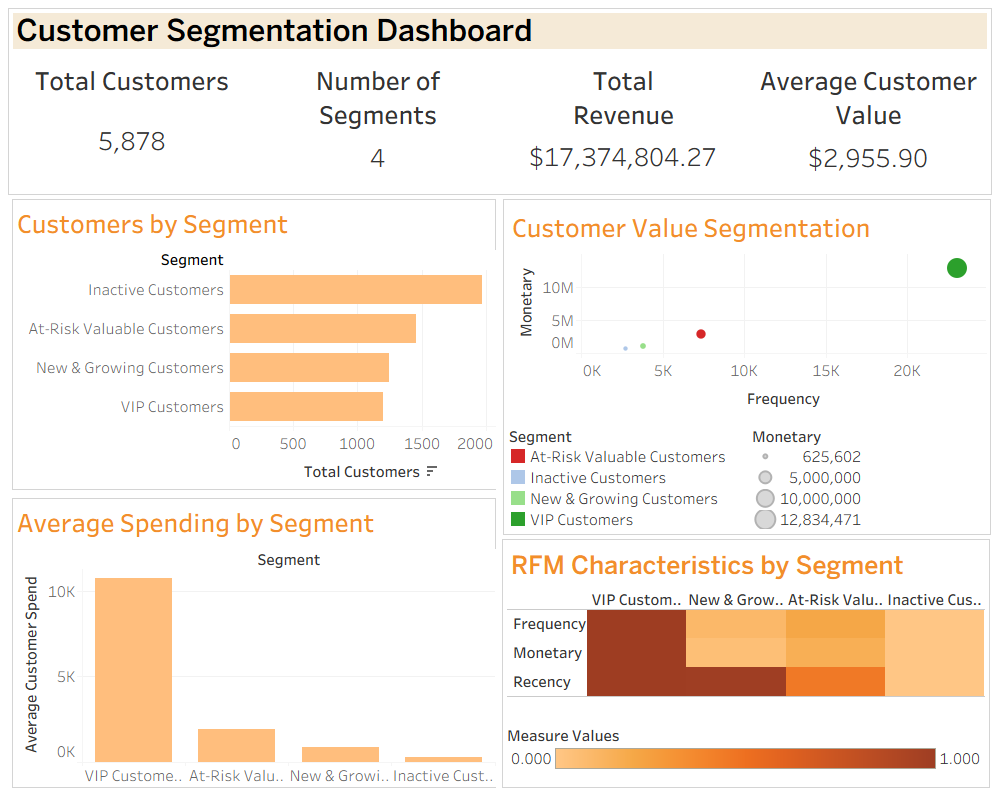

The page's visual inventory and layout, read from the dashboard file:
{"tool":"tableau","page":{"name":"Dashboard","canvas":[1000,800],"ordinal":0},"visuals":[{"type":"title","box":[9,9,982,44]},{"type":"worksheet","title":"Total Customers","mark":"Automatic","box":[9,53,246,125]},{"type":"worksheet","title":"Number of Segments","mark":"Automatic","box":[255,53,246,125]},{"type":"worksheet","title":"Total Revenue","mark":"Automatic","box":[501,53,245,125]},{"type":"worksheet","title":"Average Customer Value","mark":"Automatic","box":[746,53,245,125]},{"type":"worksheet","title":"Segment Size Chart","mark":"Automatic","rows":["Segment"],"cols":["Calculation_0306237543837696"],"box":[8,195,492,298.5]},{"type":"worksheet","title":"Customer Value Scatter Plot","mark":"Circle","rows":["Monetary"],"cols":["Frequency"],"box":[504,200,486,220]},{"type":"legend","title":"Customer Value Scatter Plot","param":"[federated.1qayw2i13rmw9w1dwfcid13506ii].[none:Segment:nk]","box":[504,420,243,114]},{"type":"legend","title":"Customer Value Scatter Plot","param":"[federated.1qayw2i13rmw9w1dwfcid13506ii].[sum:Monetary:qk]","box":[747,420,243,114]},{"type":"worksheet","title":"Segment Value Chart","mark":"Automatic","rows":["Calculation_0306237545115650"],"cols":["Segment"],"box":[8,493.5,492,298.5]},{"type":"worksheet","title":"RFM Comparison Heatmap","mark":"Square","cols":["Segment"],"box":[503,540,486,177]},{"type":"legend","title":"RFM Comparison Heatmap","param":"[federated.0ugg9k71cs9q5a1cqvt8u18612lf].[Multiple Values]","box":[503,717,486,70]}]}

Visuals, with their boxes in screenshot pixels (x1, y1, x2, y2), scaled from the page's 1000x800 canvas onto the 1000x800 screenshot:
title: left=9, top=9, right=991, bottom=53
"Total Customers" worksheet: left=9, top=53, right=255, bottom=178
"Number of Segments" worksheet: left=255, top=53, right=501, bottom=178
"Total Revenue" worksheet: left=501, top=53, right=746, bottom=178
"Average Customer Value" worksheet: left=746, top=53, right=991, bottom=178
"Segment Size Chart" worksheet: left=8, top=195, right=500, bottom=494
"Customer Value Scatter Plot" worksheet (Circle marks): left=504, top=200, right=990, bottom=420
"Customer Value Scatter Plot" legend: left=504, top=420, right=747, bottom=534
"Customer Value Scatter Plot" legend: left=747, top=420, right=990, bottom=534
"Segment Value Chart" worksheet: left=8, top=494, right=500, bottom=792
"RFM Comparison Heatmap" worksheet (Square marks): left=503, top=540, right=989, bottom=717
"RFM Comparison Heatmap" legend: left=503, top=717, right=989, bottom=787
